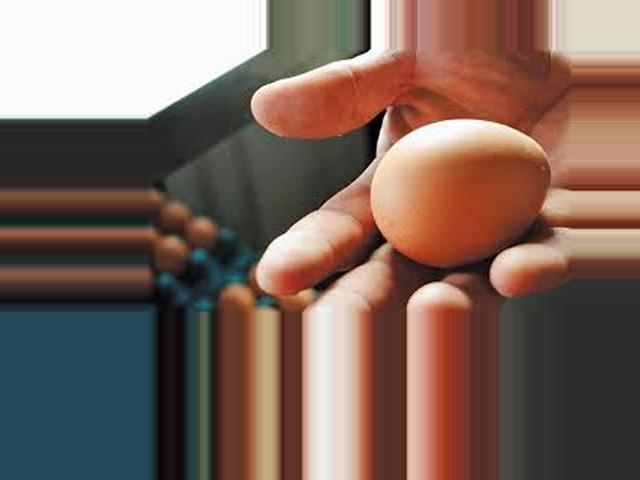egg: (369, 120, 554, 270)
